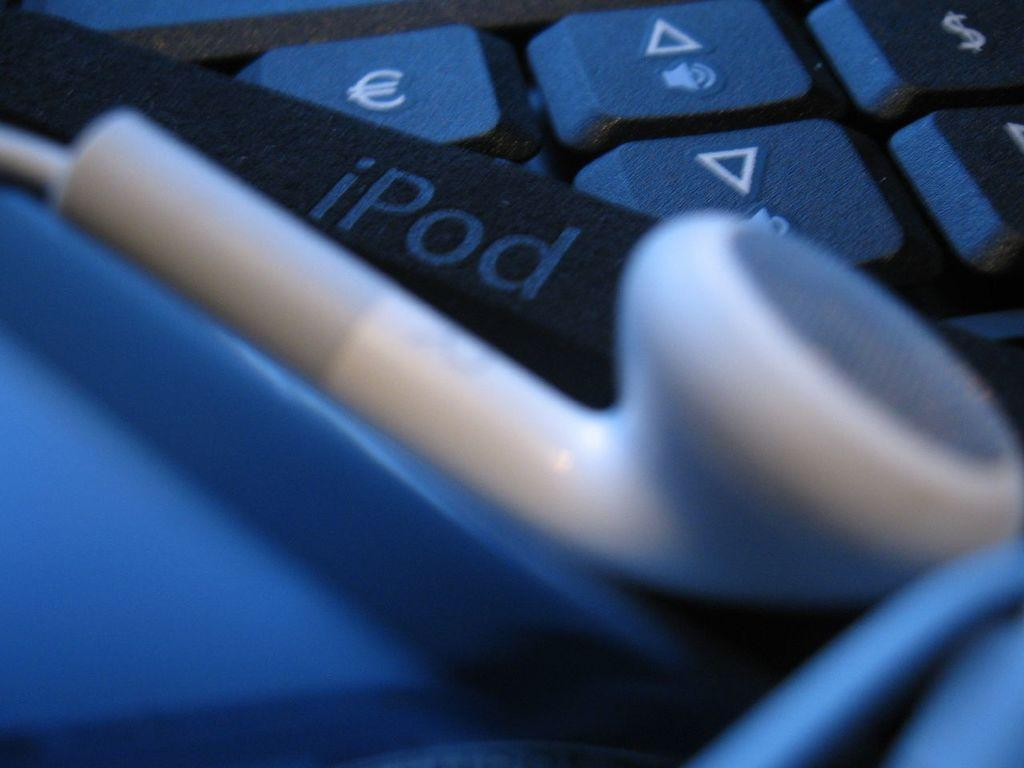Computer-keyboard: (0, 0, 1023, 443)
